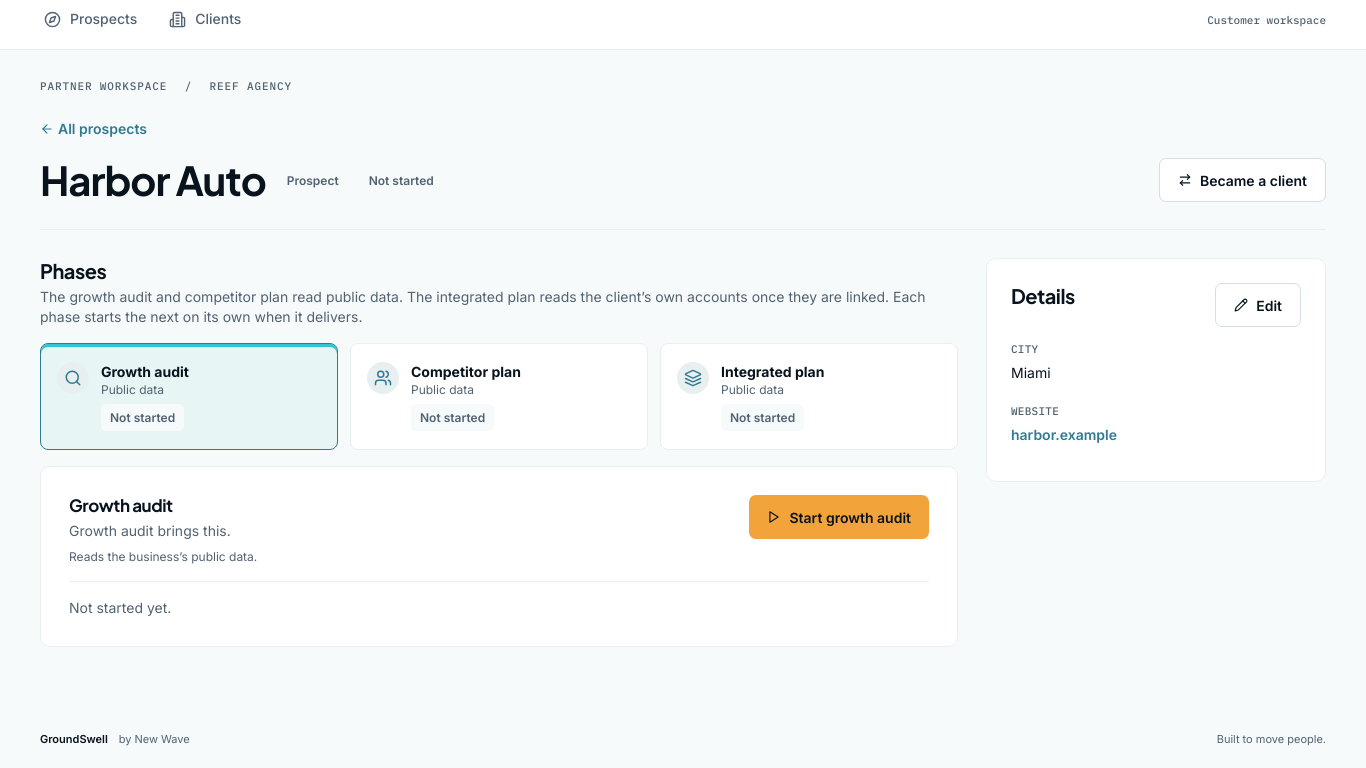
partner customer page › starts a phase from its card and says it starts on its own
(page scrolled)
Click the button "Start growth audit" at coordinates (839, 518), box [750,496,929,540]
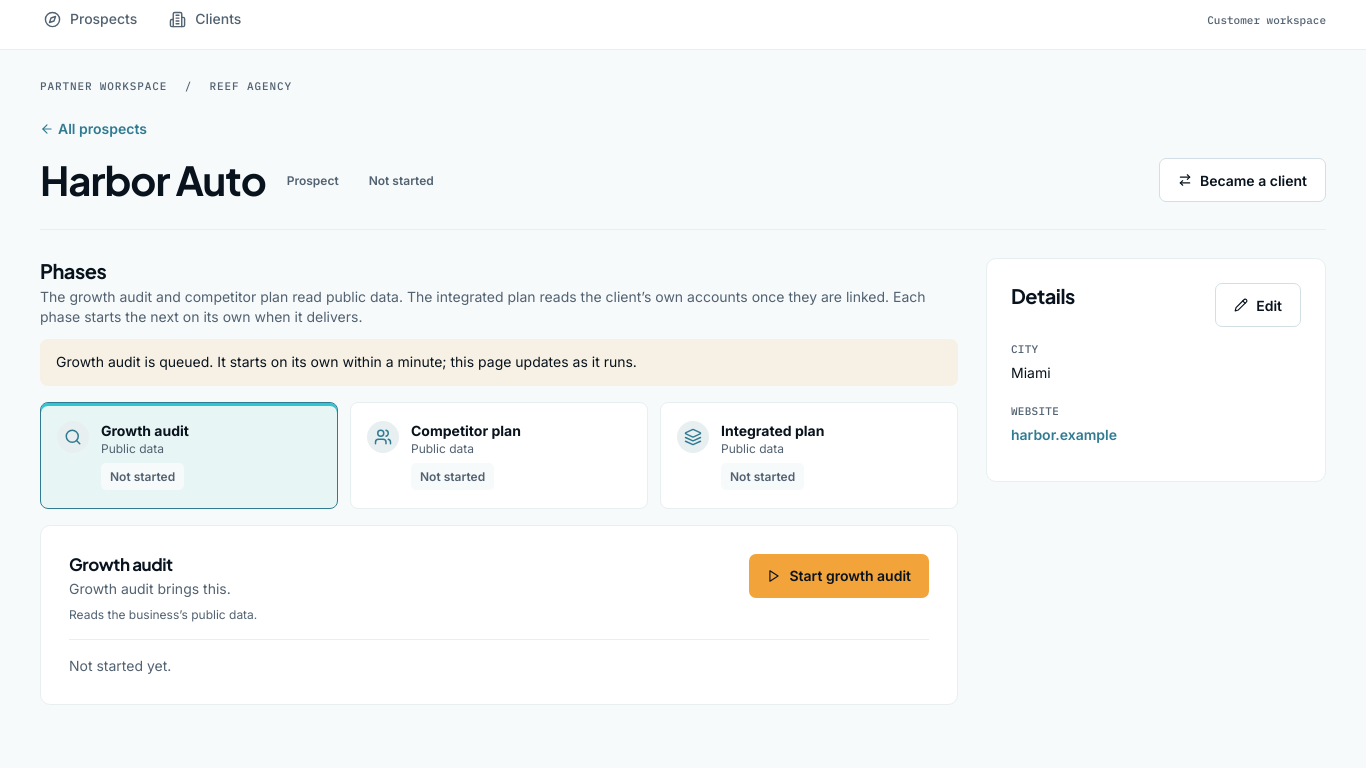
Expected: the message shows "Growth audit is queued. It starts on its own within a minute", [56,353,637,370]
